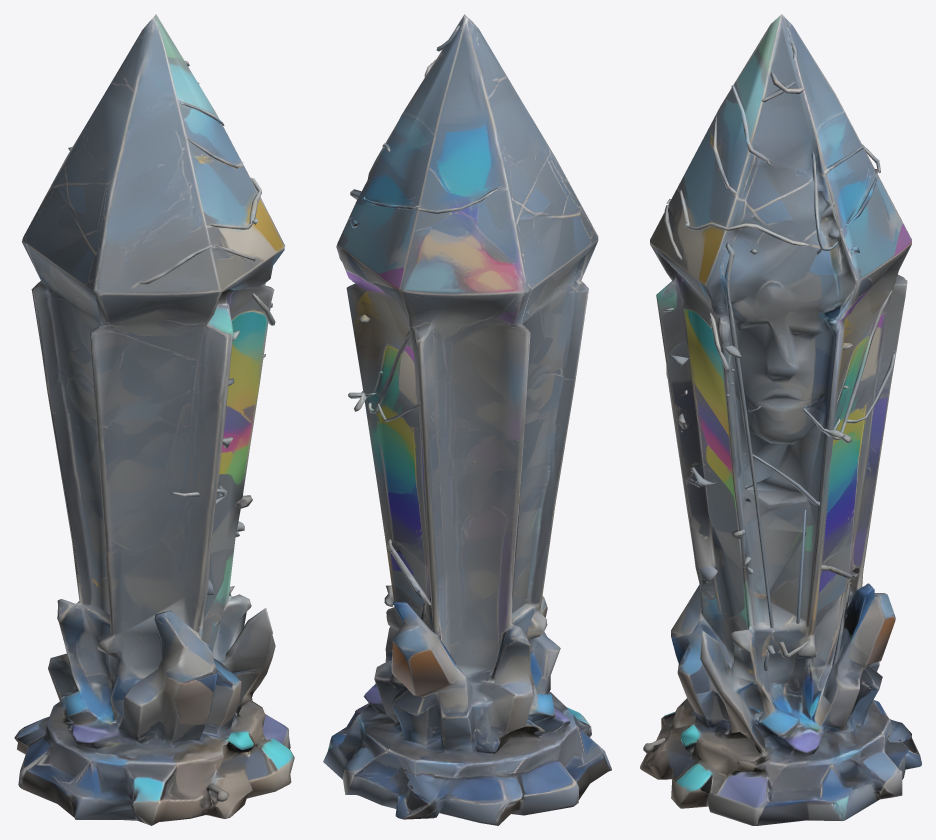
The picture shows the model from 3 angles, left to right: view 1: azimuth 30°, elevation 25°; view 2: azimuth 150°, elevation 25°; view 3: azimuth 270°, elevation 25°; orthographic projection.
Parts seen in each view (by area): view 1: tripo_node_20a7a92b-7357-42d0-8402-e7bc1e49b3a3; view 2: tripo_node_20a7a92b-7357-42d0-8402-e7bc1e49b3a3; view 3: tripo_node_20a7a92b-7357-42d0-8402-e7bc1e49b3a3.
Part boxes in pixels (x1,y1,x2,y2): tripo_node_20a7a92b-7357-42d0-8402-e7bc1e49b3a3: [14, 14, 294, 825]; tripo_node_20a7a92b-7357-42d0-8402-e7bc1e49b3a3: [323, 14, 611, 825]; tripo_node_20a7a92b-7357-42d0-8402-e7bc1e49b3a3: [640, 14, 921, 825].
Bounding box in the file's own units: 0.3425 × 1 × 0.3386.
Materials: 1 (1 with a texture image).
